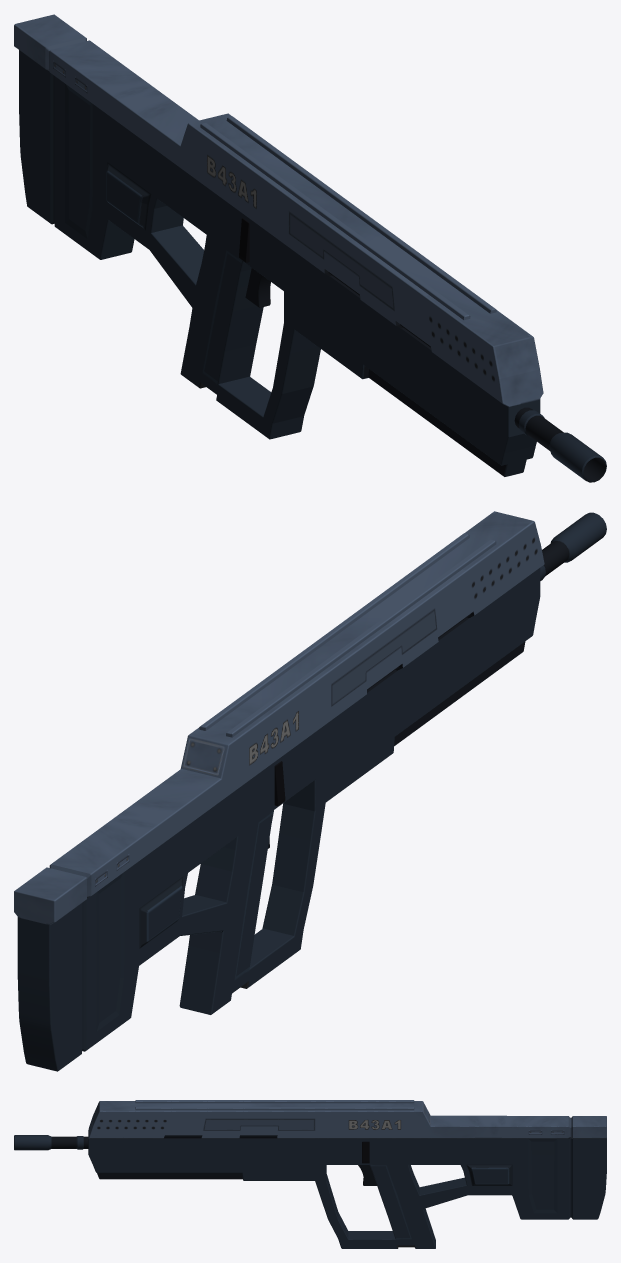
3 renders of one model, top to bottom at view 1: azimuth 30°, elevation 25°; view 2: azimuth 150°, elevation 25°; view 3: azimuth 270°, elevation 25°, orthographic. The views are drawn at different scales.
Parts seen in each view (by area): view 1: s3d_b43a1_body_LOD0, s3d_b43a1_trigger_LOD0; view 2: s3d_b43a1_body_LOD0; view 3: s3d_b43a1_body_LOD0, s3d_b43a1_trigger_LOD0.
Part boxes in pixels (left/top/right/bottom): s3d_b43a1_body_LOD0: left=14, top=14, right=606, bottom=482; s3d_b43a1_trigger_LOD0: left=245, top=268, right=270, bottom=307; s3d_b43a1_body_LOD0: left=14, top=511, right=606, bottom=1071; s3d_b43a1_body_LOD0: left=14, top=1100, right=606, bottom=1248; s3d_b43a1_trigger_LOD0: left=358, top=1165, right=376, bottom=1185.
Size of what is drawn, in the model's own units: 3.4 by 20.2 by 76.96.
